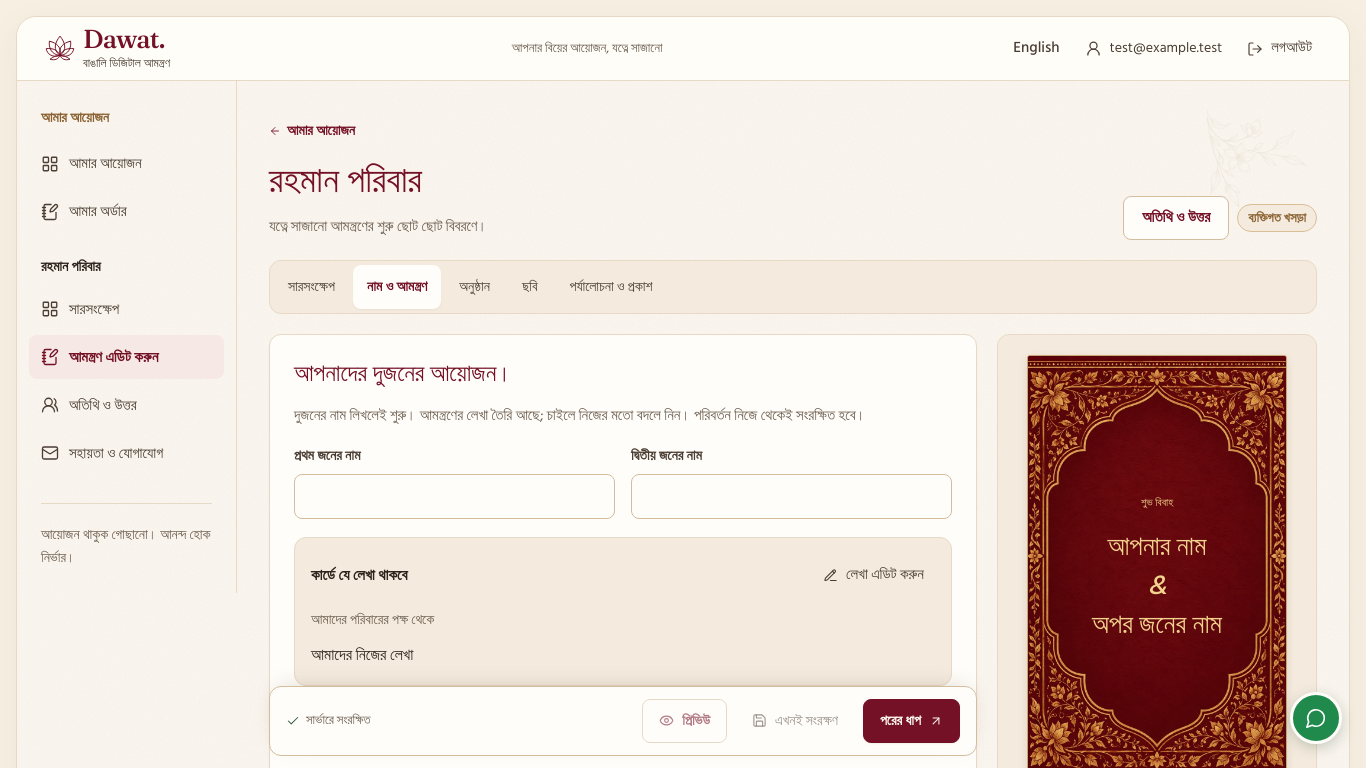
it: keeps a saved personal message and does not save simply for opening the editor
Check: the text "আমাদের নিজের লেখা" is shown, box [311,642,413,668]
Click the button "লেখা এডিট করুন" at (874, 576), box [812,554,935,598]
(page scrolled)
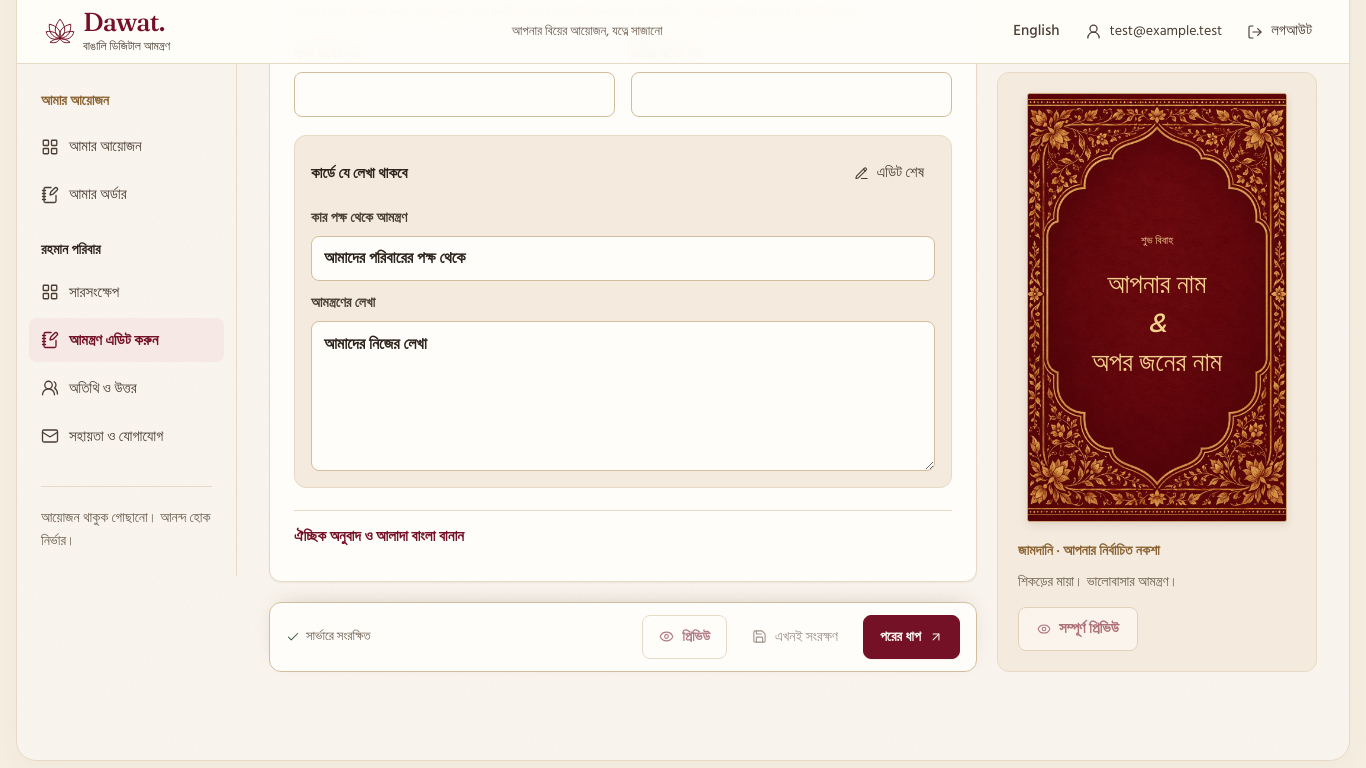
Check: the text box labelled "আমন্ত্রণের লেখা" holds "আমাদের নিজের লেখা", box [311,321,935,471]
